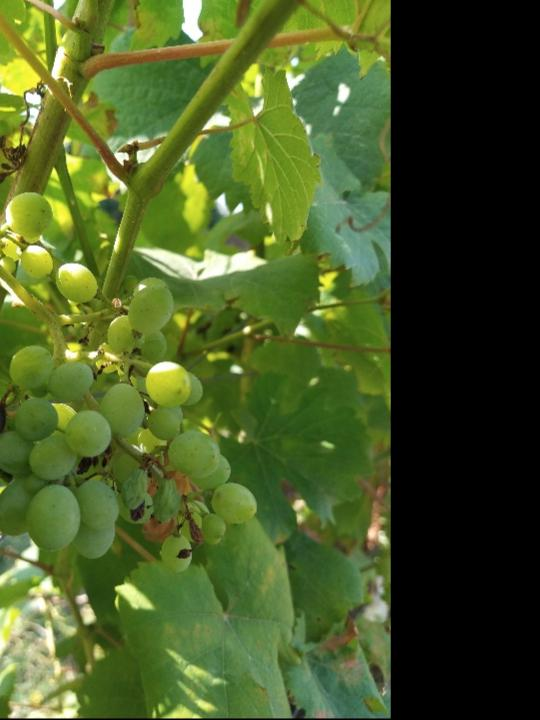grape: (0, 189, 261, 577)
